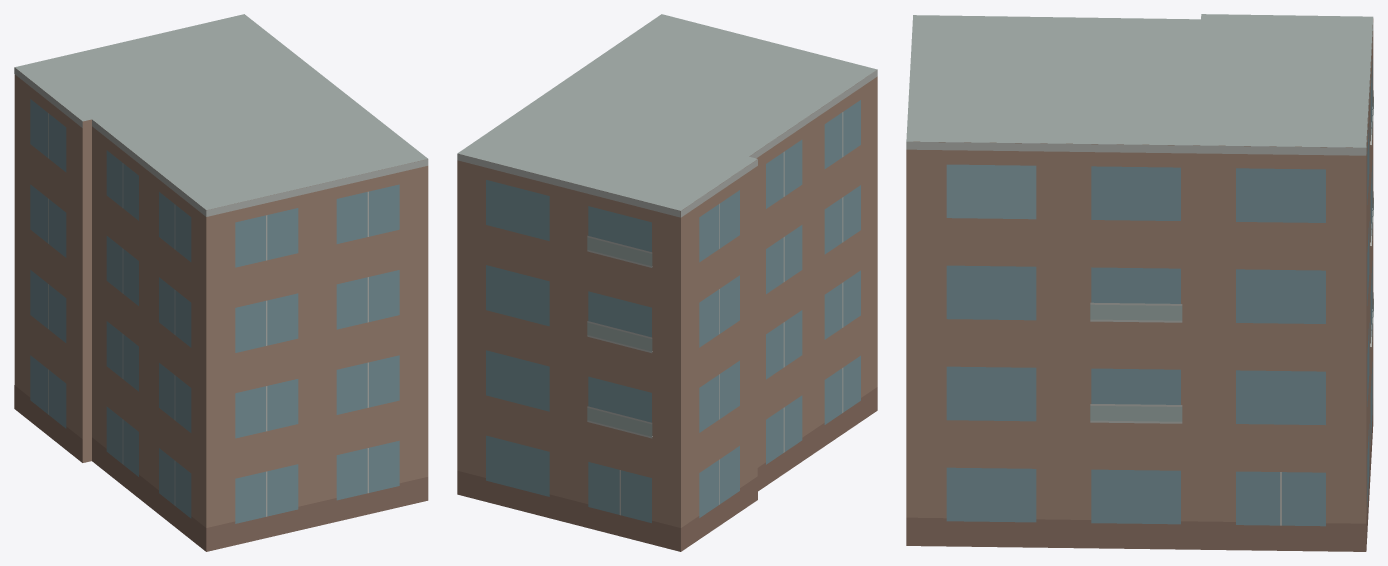
Rendered from survey-upis-32808343.glb.
3 views of the same model, side by side, from view 1: azimuth 30°, elevation 25°; view 2: azimuth 150°, elevation 25°; view 3: azimuth 270°, elevation 25° (orthographic). The views are drawn at different scales.
Parts seen in each view (by area): view 1: survey-upis-32808343.tmp; view 2: survey-upis-32808343.tmp; view 3: survey-upis-32808343.tmp.
Part boxes in pixels (<box>): survey-upis-32808343.tmp: <box>14,14,428,551</box>; survey-upis-32808343.tmp: <box>457,14,877,551</box>; survey-upis-32808343.tmp: <box>906,14,1373,551</box>.
Size of the model in its own units: 8.66 by 12.2 by 12.79.
